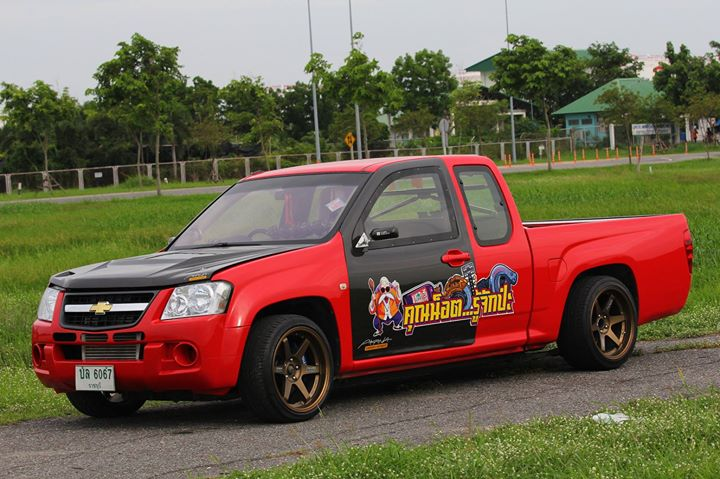pickup: (28, 152, 694, 422)
